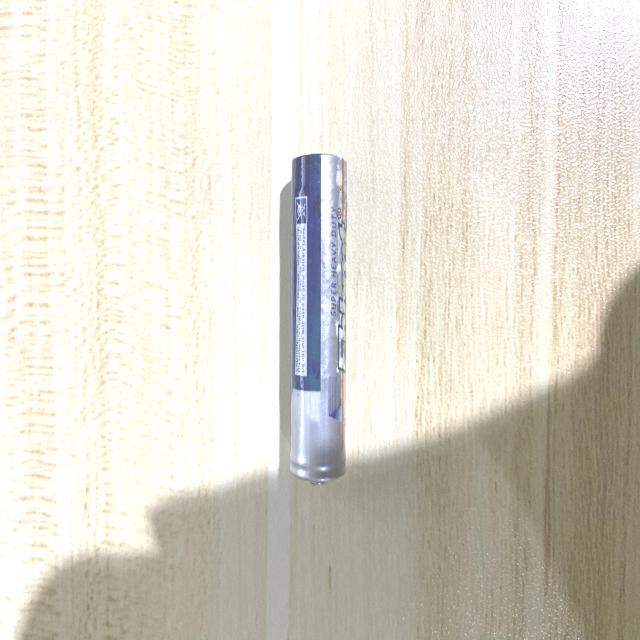AAA: (287, 150, 349, 491)
